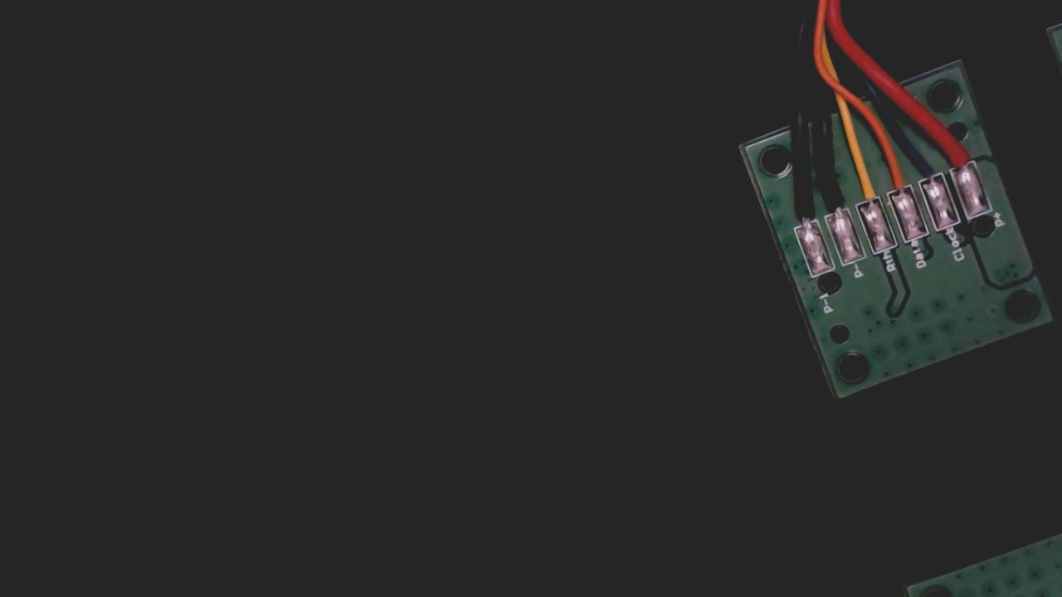Black: (812, 170, 854, 228)
Black1: (778, 178, 822, 240)
Green: (904, 132, 951, 196)
Orange: (873, 141, 918, 206)
Red: (934, 121, 981, 186)
Yellow: (839, 152, 887, 219)
